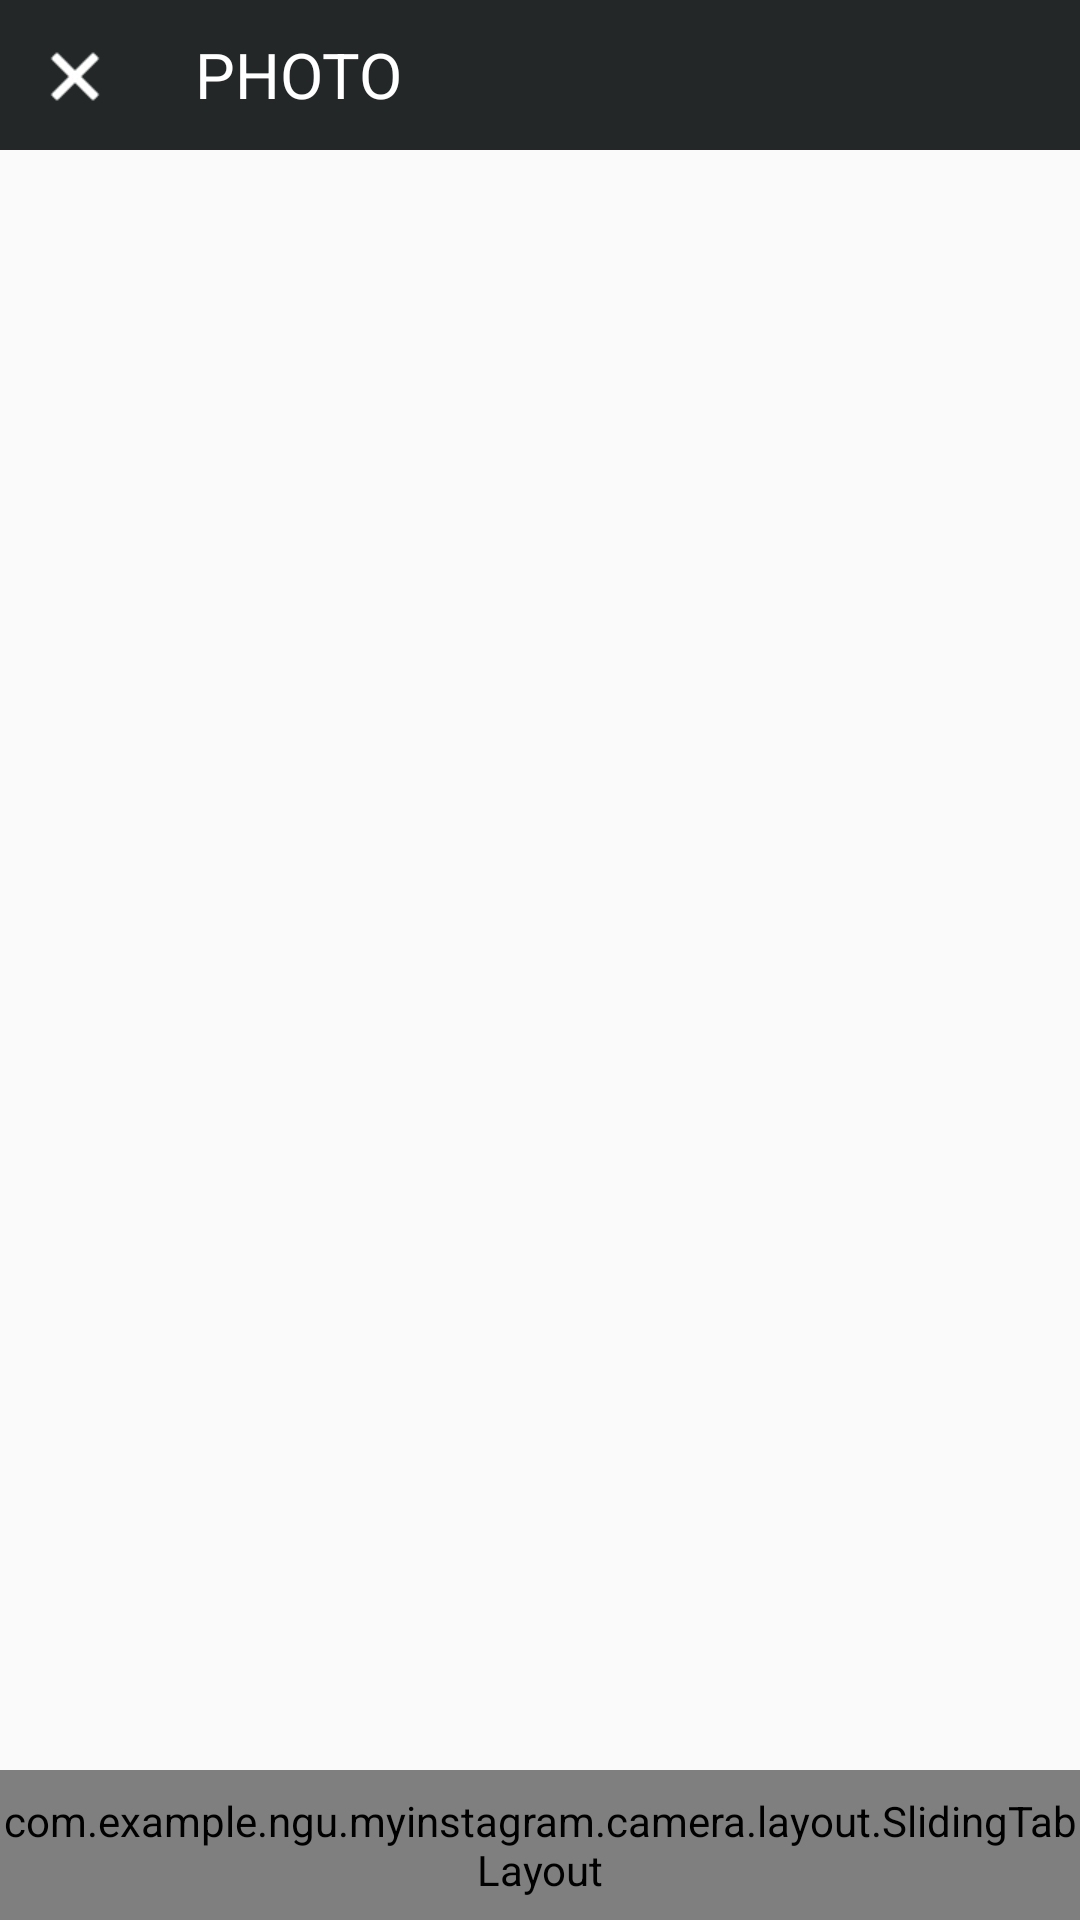

Named icons in this screenshot (1080w x 1920h) and their bounding boxes, [x1,y1,x2,y2]:
close: [51,52,99,101]
